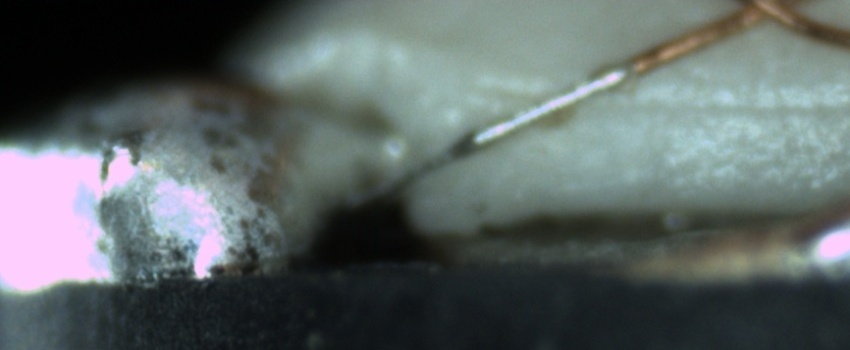CL: (718, 1, 811, 31)
DL: (614, 74, 849, 134)
TS: (319, 62, 639, 227)
TTCW: (337, 26, 721, 217)
